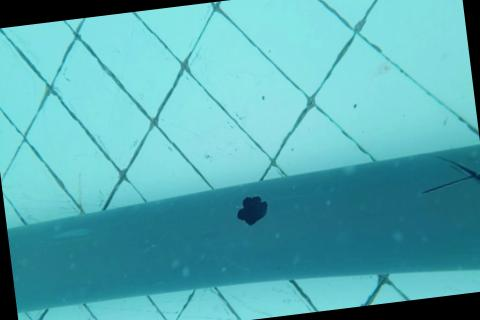kebocoran: (232, 191, 270, 229)
keretakan: (416, 152, 480, 196)
